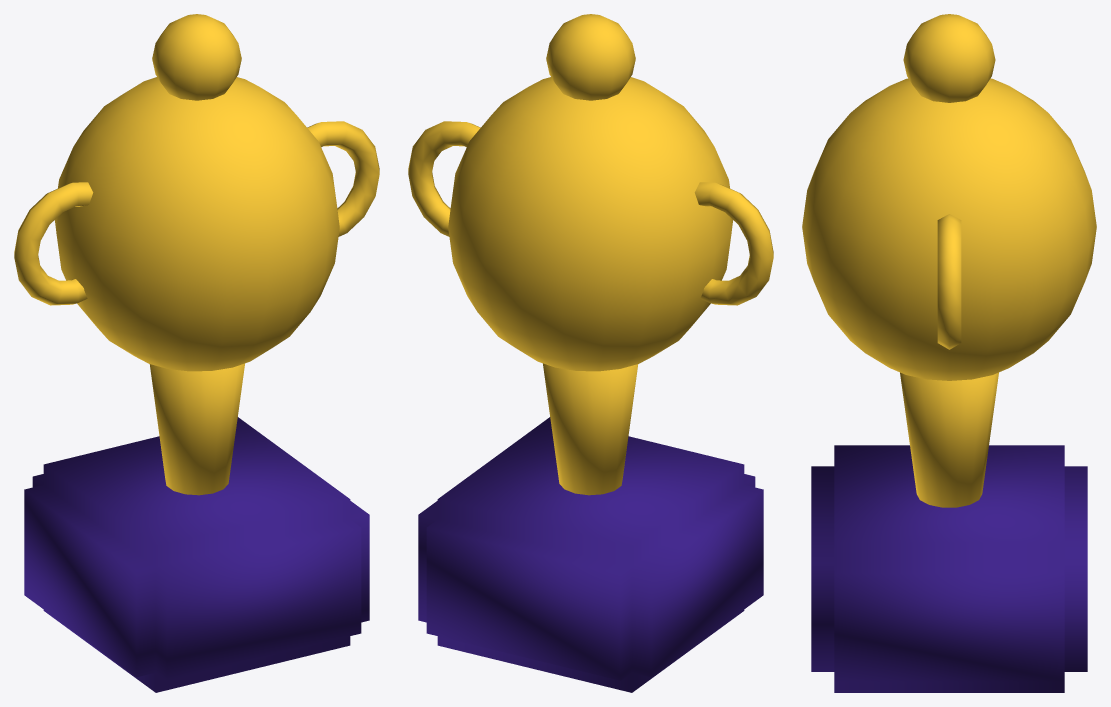
File: prop_trophy.glb
3 renders of one model, left to right at view 1: azimuth 30°, elevation 25°; view 2: azimuth 150°, elevation 25°; view 3: azimuth 270°, elevation 25°, orthographic. The views are drawn at different scales.
Visible parts, largest first — view 1: Trophy_Cup, Trophy_Base; view 2: Trophy_Cup, Trophy_Base; view 3: Trophy_Cup, Trophy_Base.
Part boxes in pixels (x1,y1,x2,y2): Trophy_Cup: (14, 14, 379, 495); Trophy_Base: (24, 417, 369, 692); Trophy_Cup: (408, 14, 773, 495); Trophy_Base: (418, 417, 763, 692); Trophy_Cup: (802, 14, 1096, 507); Trophy_Base: (811, 445, 1087, 692).
Size of the model in its own units: 0.94 by 1.5 by 0.64.
